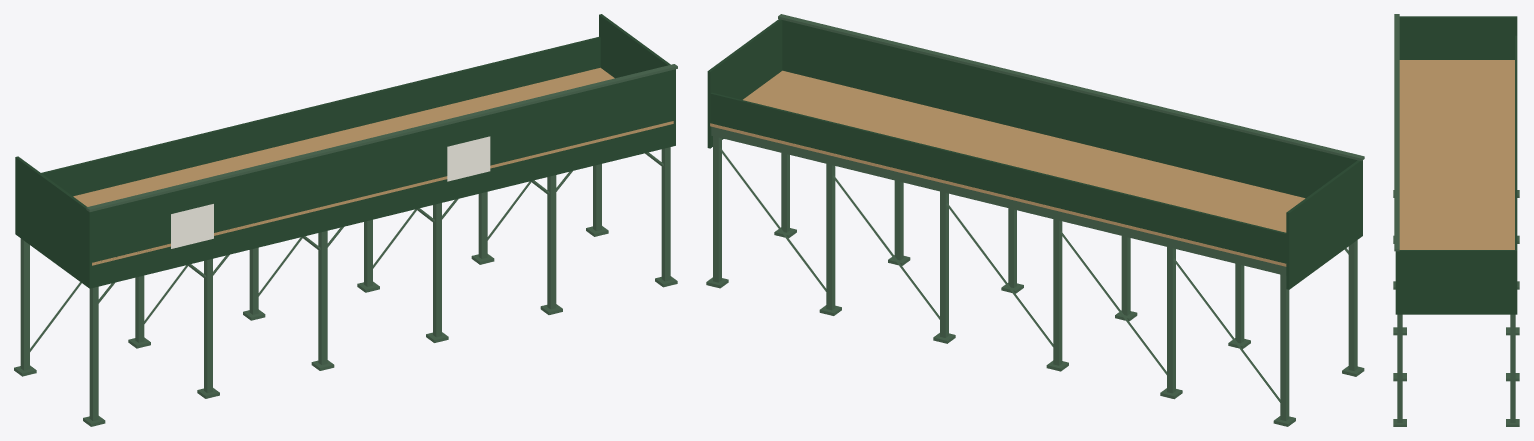
File: nyc_scaffold.glb
3 renders of one model, left to right at view 1: azimuth 30°, elevation 25°; view 2: azimuth 150°, elevation 25°; view 3: azimuth 270°, elevation 25°, orthographic. The views are drawn at different scales.
Visible parts, largest first — view 1: nyc_scaffold; view 2: nyc_scaffold; view 3: nyc_scaffold.
Boxes of the visible parts, bbox=[...] form: nyc_scaffold: bbox=[14, 14, 677, 426]; nyc_scaffold: bbox=[706, 14, 1364, 426]; nyc_scaffold: bbox=[1393, 14, 1519, 426].
Size of the model in its own units: 12.34 by 4.35 by 2.8.
1 material, 1 textured.
